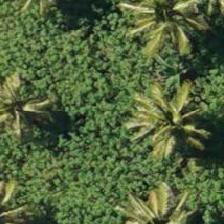coconut_tree: (123, 77, 213, 167), (121, 0, 211, 60), (0, 64, 55, 154)
